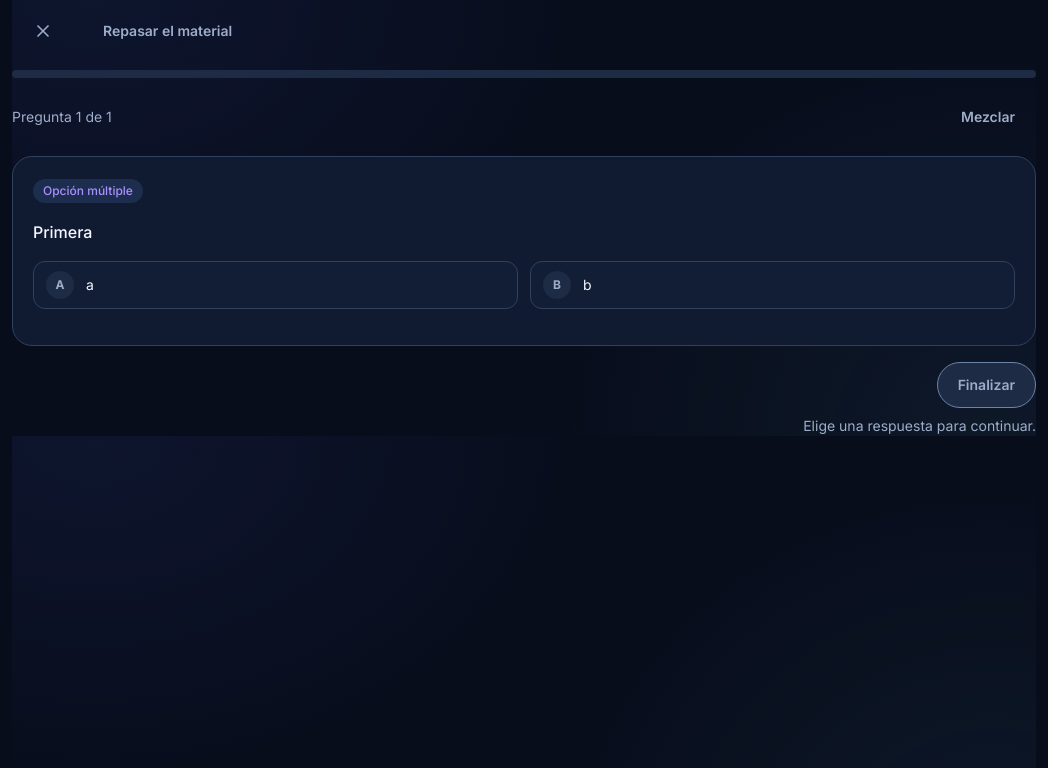
review quiz › QUIZ_OUTDATED keeps answers and reloads the quiz
Click the button "A a": x=60, y=285 [33,261,518,309]
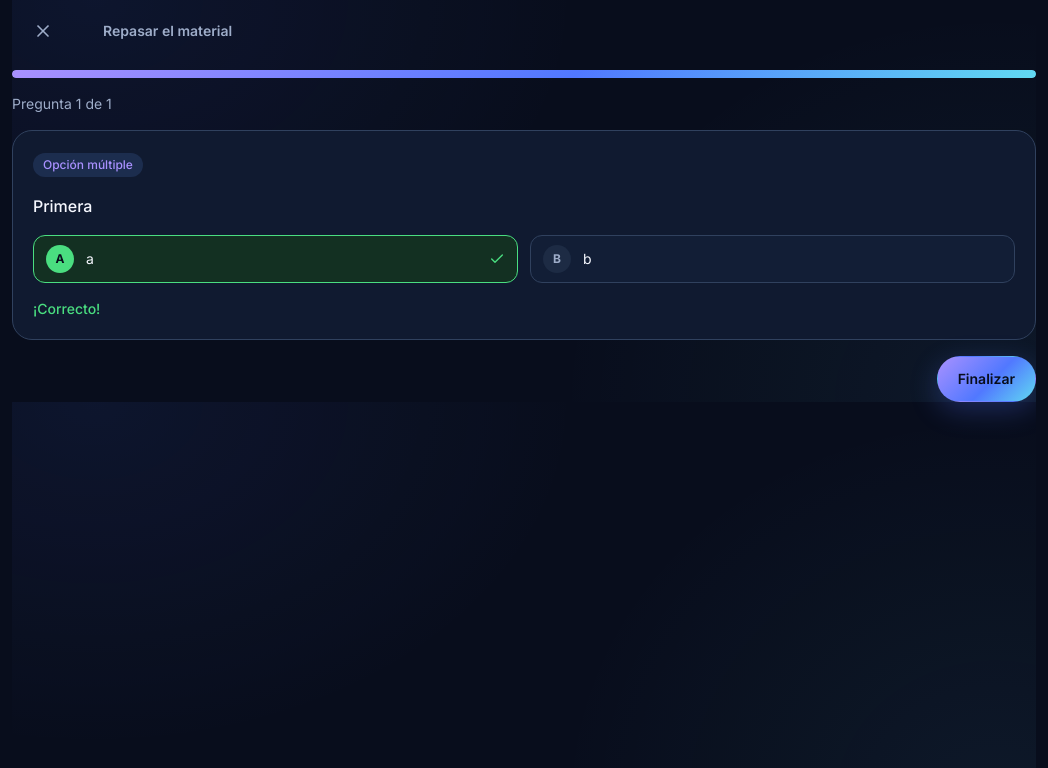
Click the button "Finalizar": x=986, y=379 [937,356,1036,402]
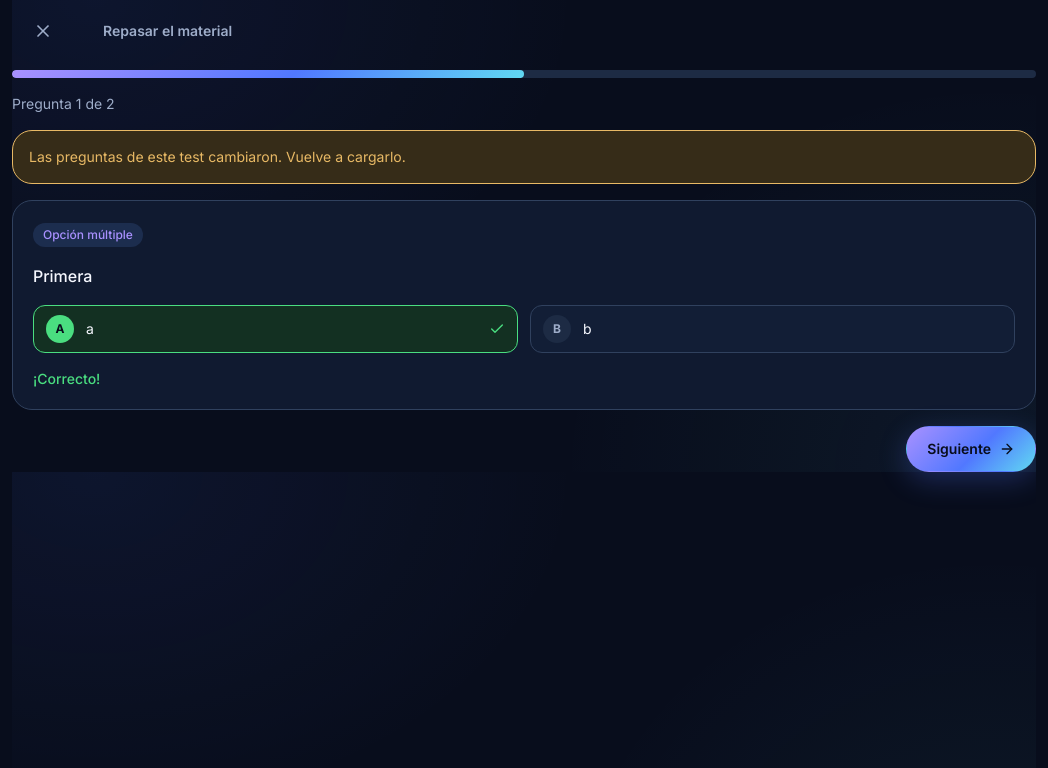
Expected: the text "Las preguntas de este test cambiaron. Vuelve a cargarlo." is shown, [12,130,1036,184]
Expected: the text "Pregunta 1 de 2" is shown, [12,94,115,114]
